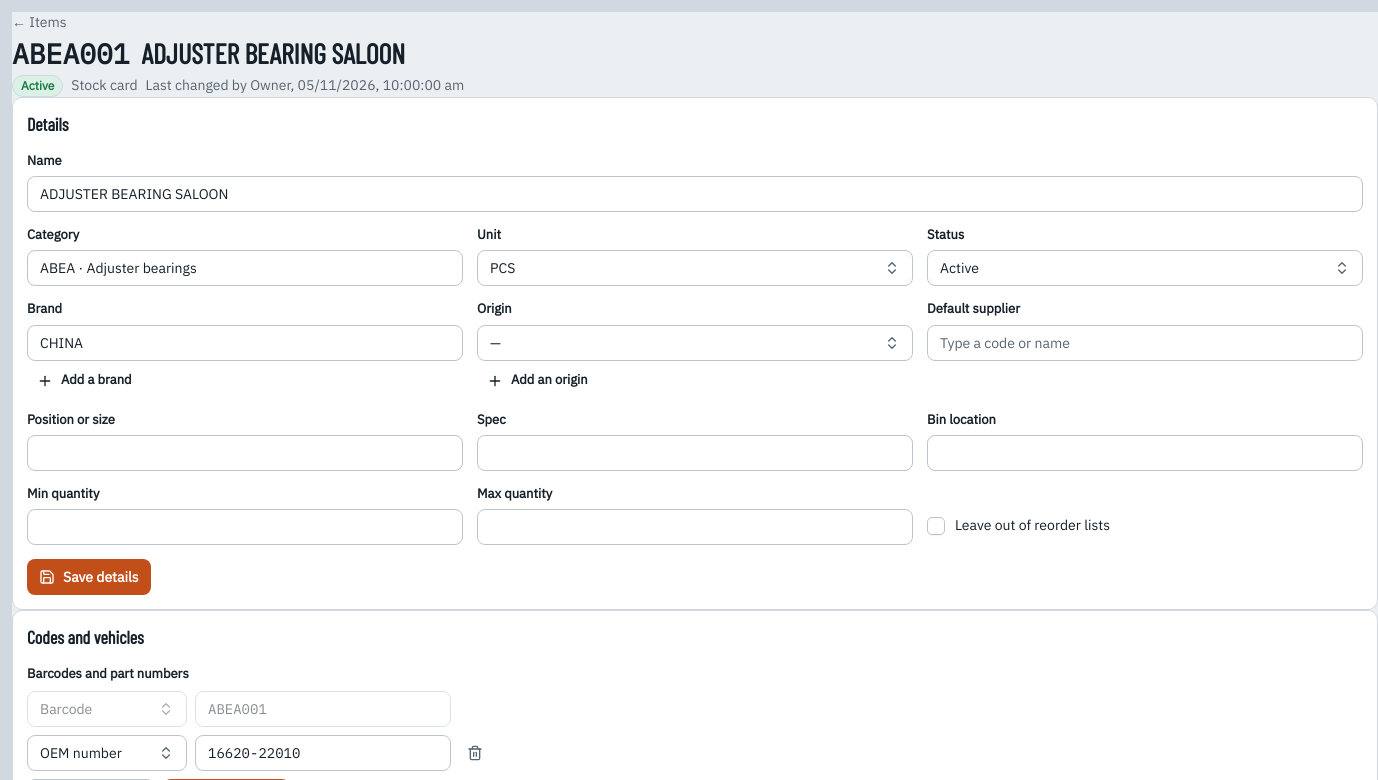
it: an item › says who changed the item in the meantime when a save is stale
The image size is (1378, 780).
Click the button "Save details".
click(89, 577)  # box [27, 559, 151, 595]
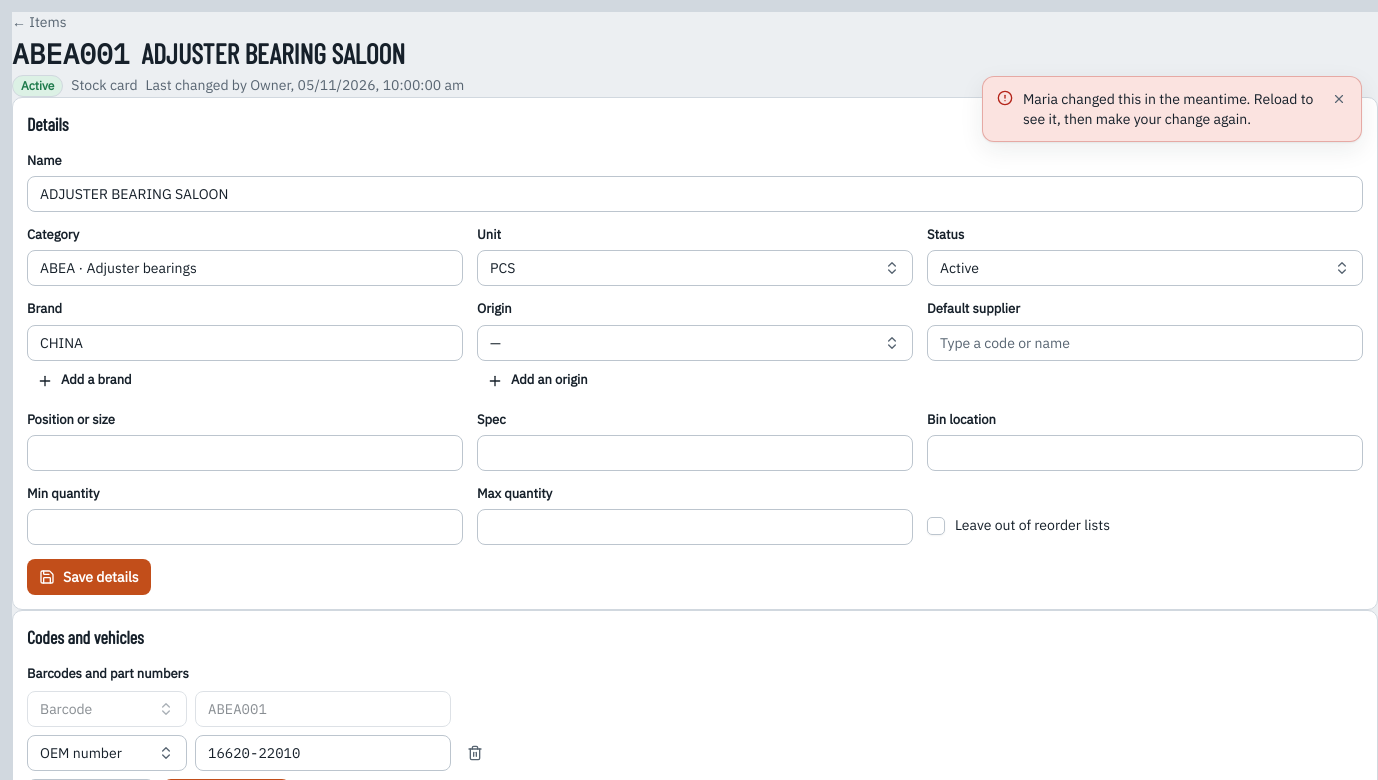
Now the text "Maria changed this in the meantime" is shown, box [1023, 90, 1313, 128]
